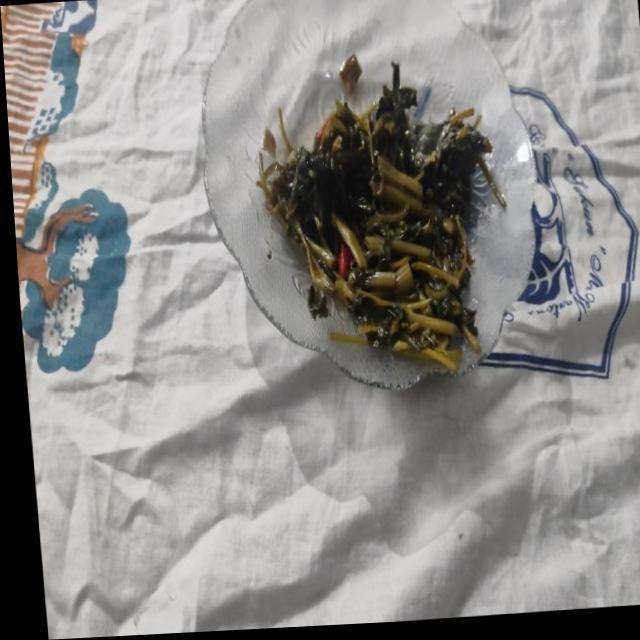tumis_kangkung: (266, 61, 496, 372)
